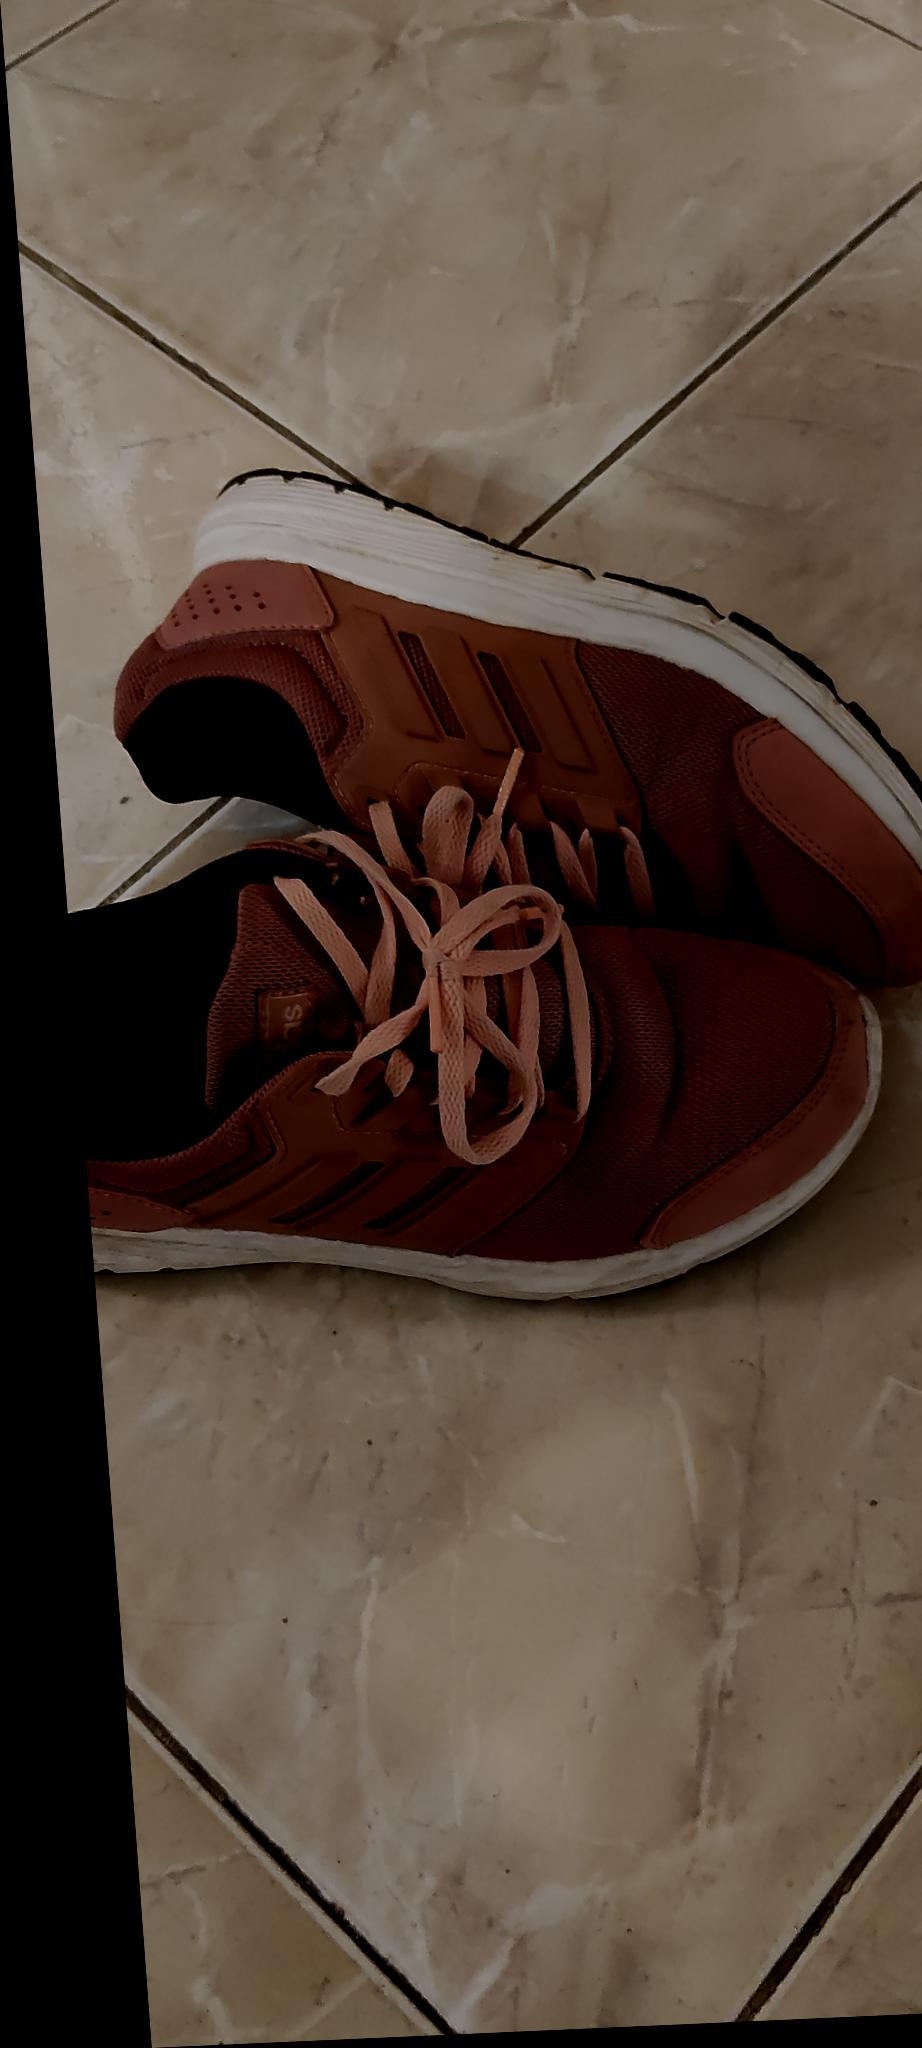Shoes: (96, 441, 922, 1018), (62, 807, 900, 1321)
